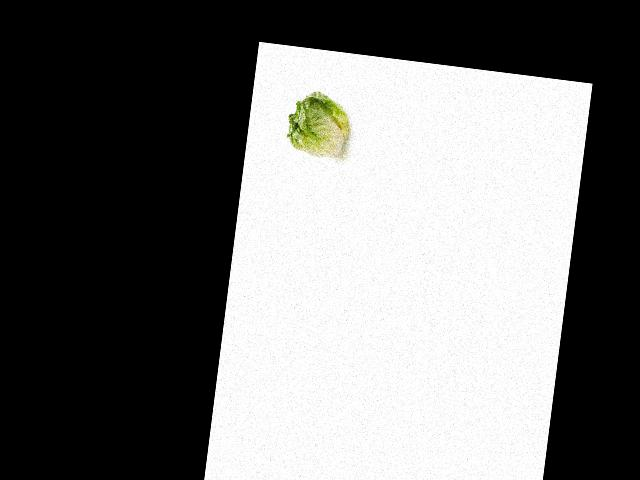lettuce: (281, 84, 352, 164)
